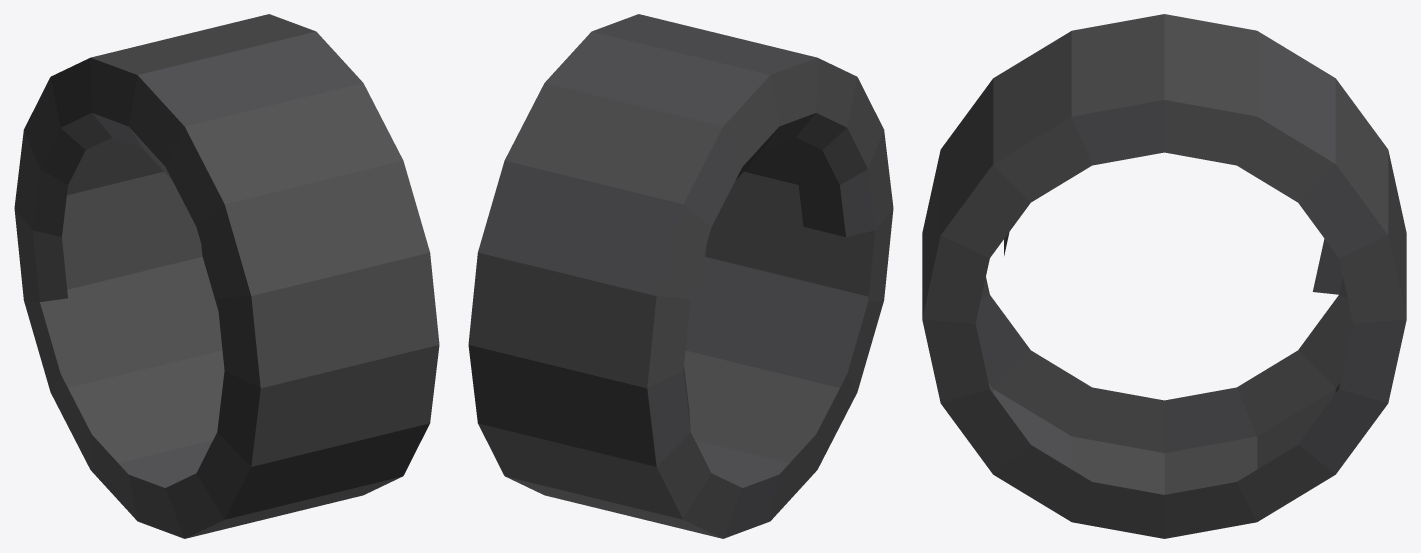
Rendered from rightTire.glb.
3 renders of one model, left to right at view 1: azimuth 30°, elevation 25°; view 2: azimuth 150°, elevation 25°; view 3: azimuth 270°, elevation 25°, orthographic.
Parts seen in each view (by area): view 1: rightTire_Cube.002; view 2: rightTire_Cube.002; view 3: rightTire_Cube.002.
Part boxes in pixels (x1,y1,x2,y2): rightTire_Cube.002: (14, 14, 439, 538); rightTire_Cube.002: (468, 14, 893, 538); rightTire_Cube.002: (922, 14, 1406, 538).
Bounding box in the file's own units: 0.3232 × 0.7003 × 0.7003.
Materials: 1 (1 with a texture image).
